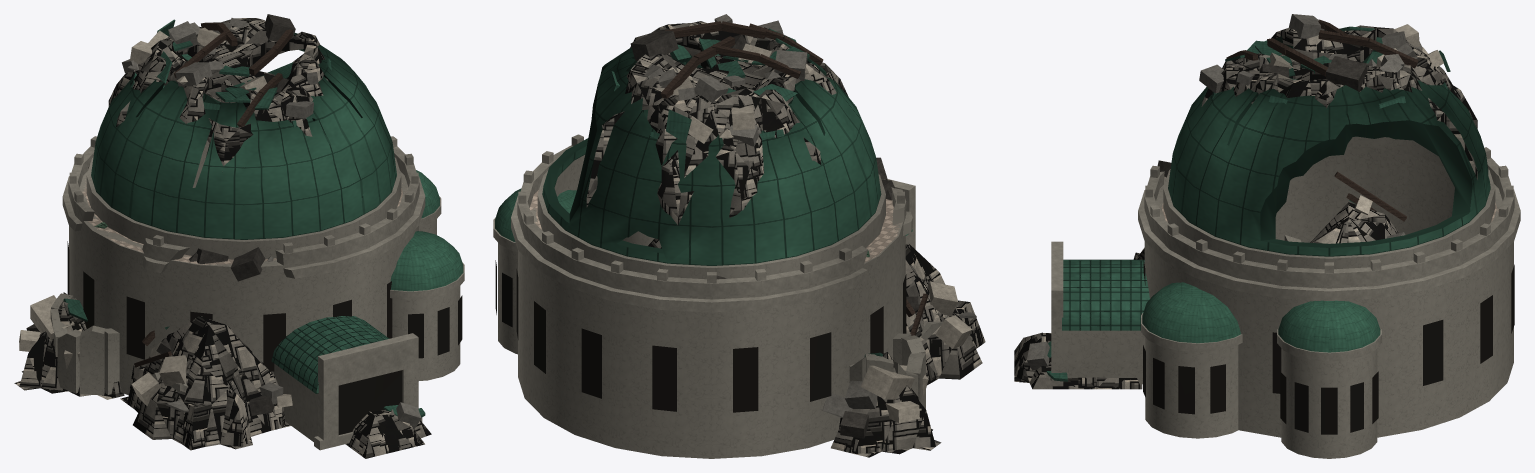
The model's file is CreBuild05a.glb.
3 views of the same model, side by side, from view 1: azimuth 30°, elevation 25°; view 2: azimuth 150°, elevation 25°; view 3: azimuth 270°, elevation 25° (orthographic). The views are drawn at different scales.
Parts seen in each view (by area): view 1: marble; view 2: marble; view 3: marble.
Boxes of the visible parts, left/top/right/bottom form: marble: left=14, top=14, right=464, bottom=458; marble: left=493, top=14, right=985, bottom=458; marble: left=1014, top=14, right=1520, bottom=458.
Bounding box in the file's own units: 16.19 × 11.84 × 16.62.
Materials: 13 (12 with a texture image).
